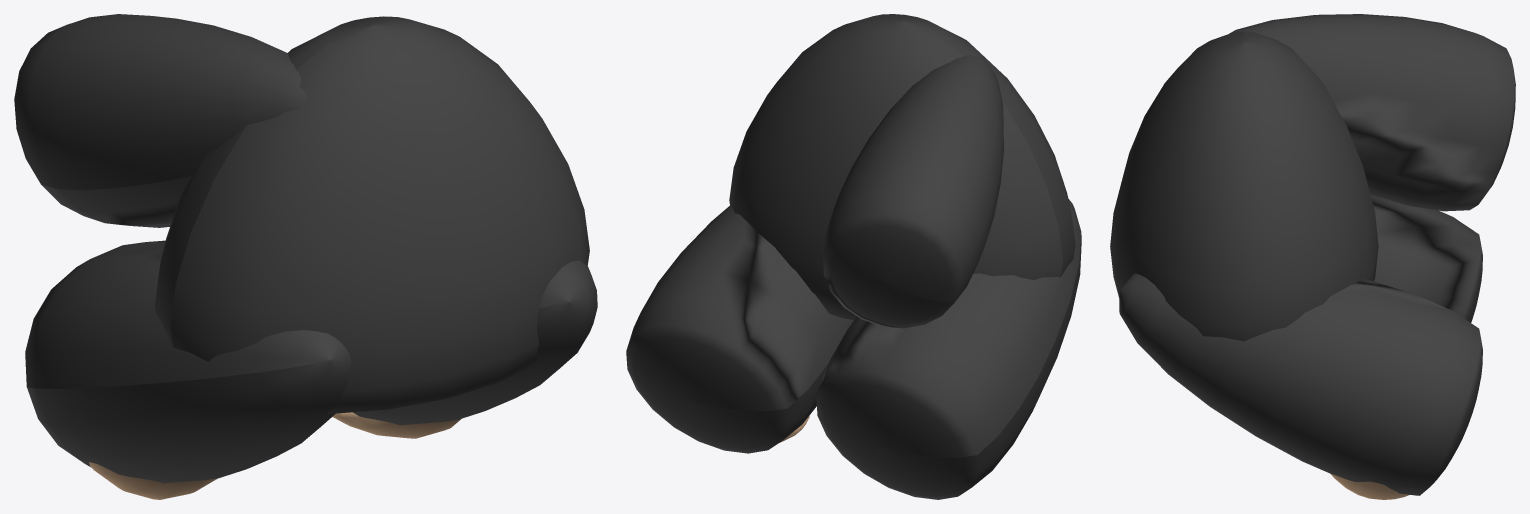
Rendered from hand_pachyderm.glb.
The picture shows the model from 3 angles, left to right: view 1: azimuth 30°, elevation 25°; view 2: azimuth 150°, elevation 25°; view 3: azimuth 270°, elevation 25°; orthographic projection. The views are drawn at different scales.
Parts seen in each view (by area): view 1: CombinedMesh_MaterialSlots; view 2: CombinedMesh_MaterialSlots; view 3: CombinedMesh_MaterialSlots.
Part boxes in pixels (x1,y1,x2,y2): CombinedMesh_MaterialSlots: (14, 14, 597, 499); CombinedMesh_MaterialSlots: (626, 14, 1081, 499); CombinedMesh_MaterialSlots: (1110, 14, 1515, 499).
Bounding box in the file's own units: 1.76 × 1.81 × 1.65.
